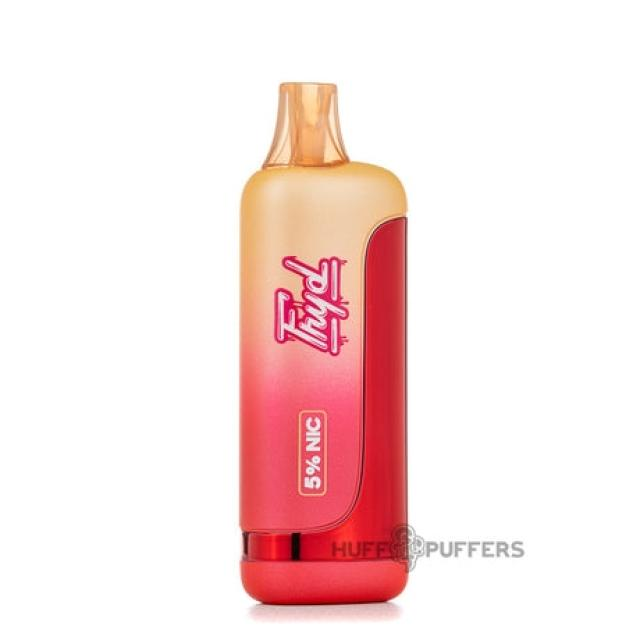Vape-images: (237, 80, 409, 606)
